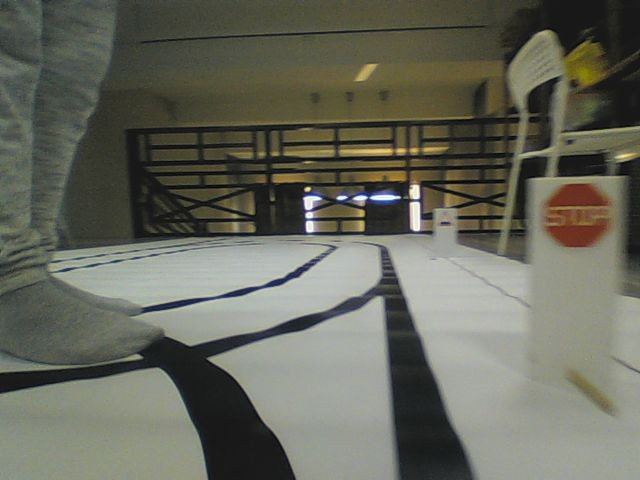Stop: (545, 181, 612, 249)
